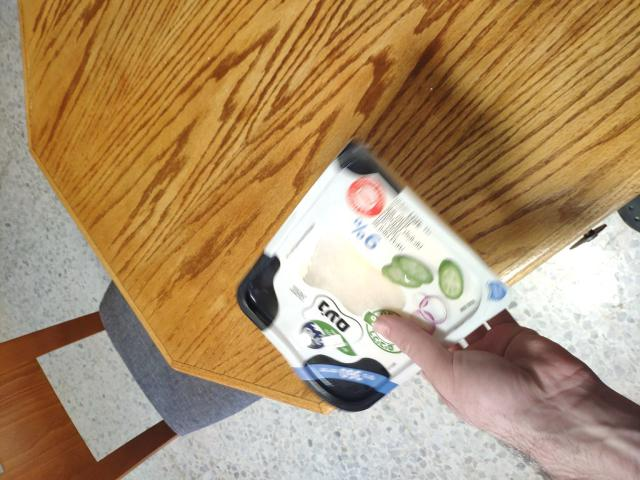cheese: (259, 174, 463, 411)
